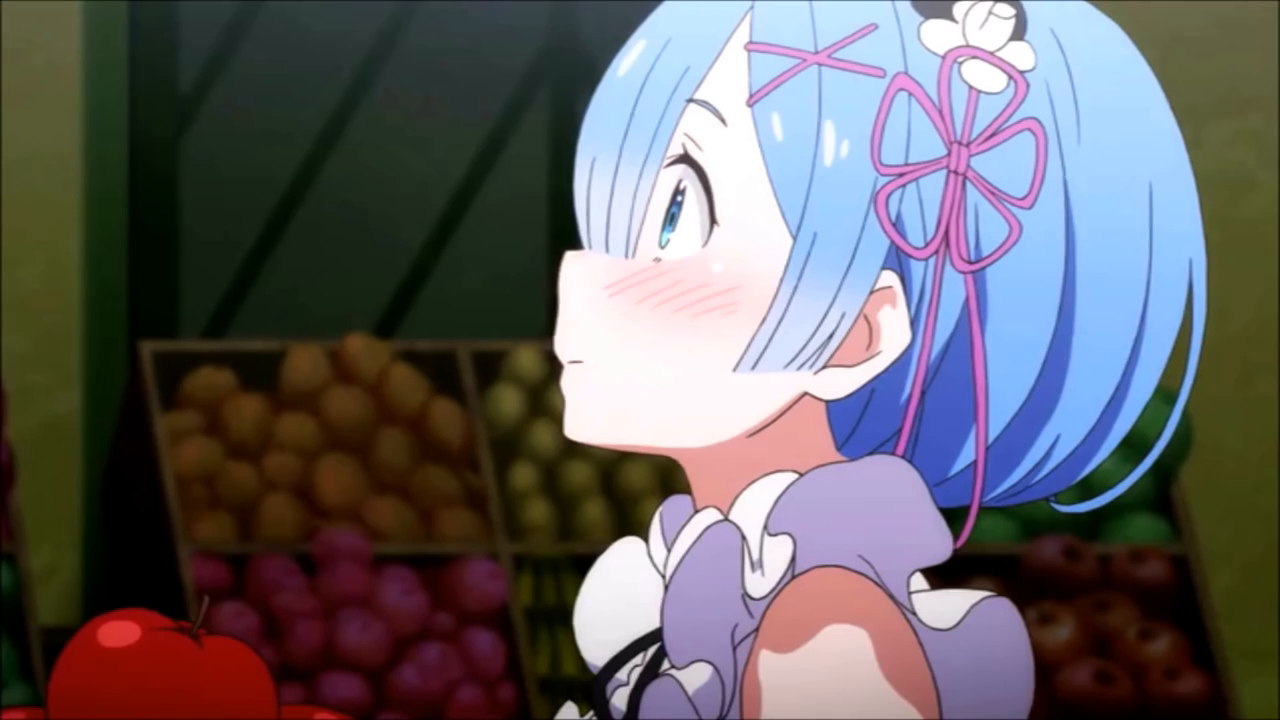REM: (545, 9, 1218, 535)
